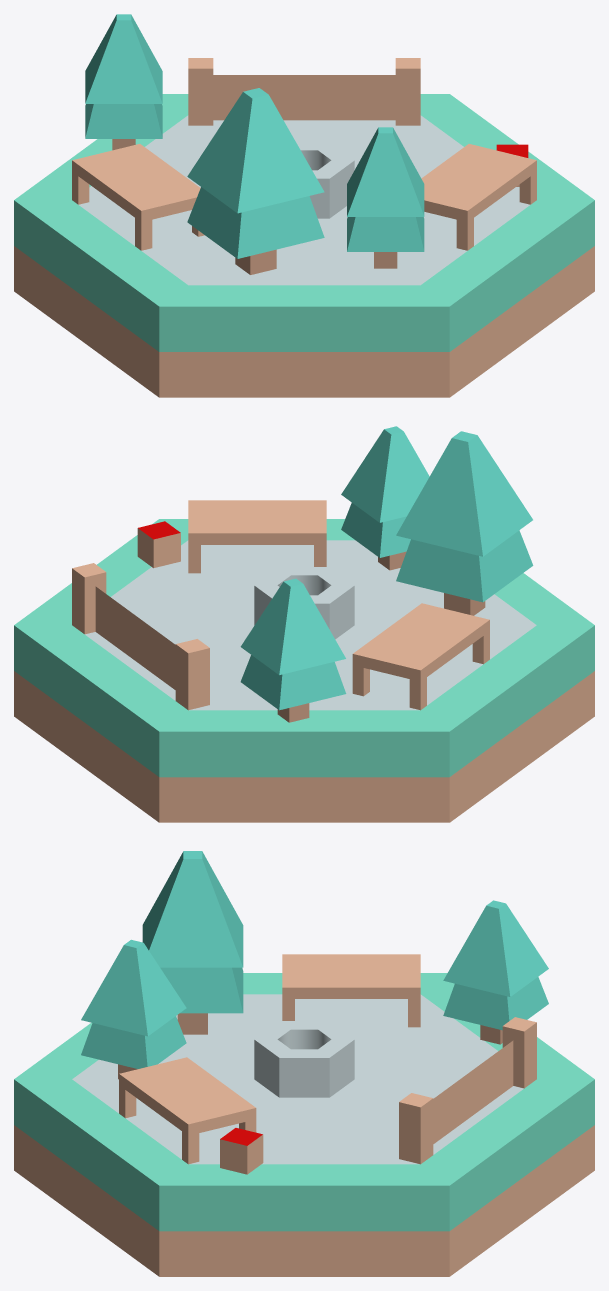
Rendered from market.fbx.
3 views of the same model, one above another, from view 1: azimuth 30°, elevation 25°; view 2: azimuth 150°, elevation 25°; view 3: azimuth 270°, elevation 25° (orthographic).
Parts seen in each view (by area): view 1: building_market, tree, fence, tree.002, tree.001, stall.001, stall, well; view 2: building_market, tree, tree.001, fence, stall.001, tree.002, stall, well, crate; view 3: building_market, tree, tree.001, tree.002, fence, stall, stall.001, well, crate.
Boxes of the visible parts, x1,y1,x2,y2 form: building_market: [14, 94, 594, 397]; tree: [187, 88, 324, 274]; fence: [188, 58, 420, 125]; tree.002: [347, 127, 424, 268]; tree.001: [85, 14, 162, 150]; stall.001: [72, 144, 204, 250]; stall: [421, 144, 536, 250]; well: [296, 142, 354, 218]; building_market: [14, 519, 594, 822]; tree: [396, 431, 533, 615]; tree.001: [240, 578, 346, 722]; fence: [72, 563, 209, 710]; stall.001: [352, 603, 489, 710]; tree.002: [341, 426, 429, 570]; stall: [188, 500, 326, 573]; well: [254, 567, 354, 639]; crate: [137, 521, 180, 568]; building_market: [14, 973, 594, 1276]; tree: [142, 851, 243, 1034]; tree.001: [443, 900, 548, 1044]; tree.002: [81, 939, 186, 1079]; fence: [399, 1017, 536, 1164]; stall: [119, 1057, 256, 1164]; stall.001: [282, 954, 420, 1027]; well: [254, 1021, 354, 1097]; crate: [220, 1128, 263, 1174].
Bounding box in the file's own units: 100 × 58 × 115.
